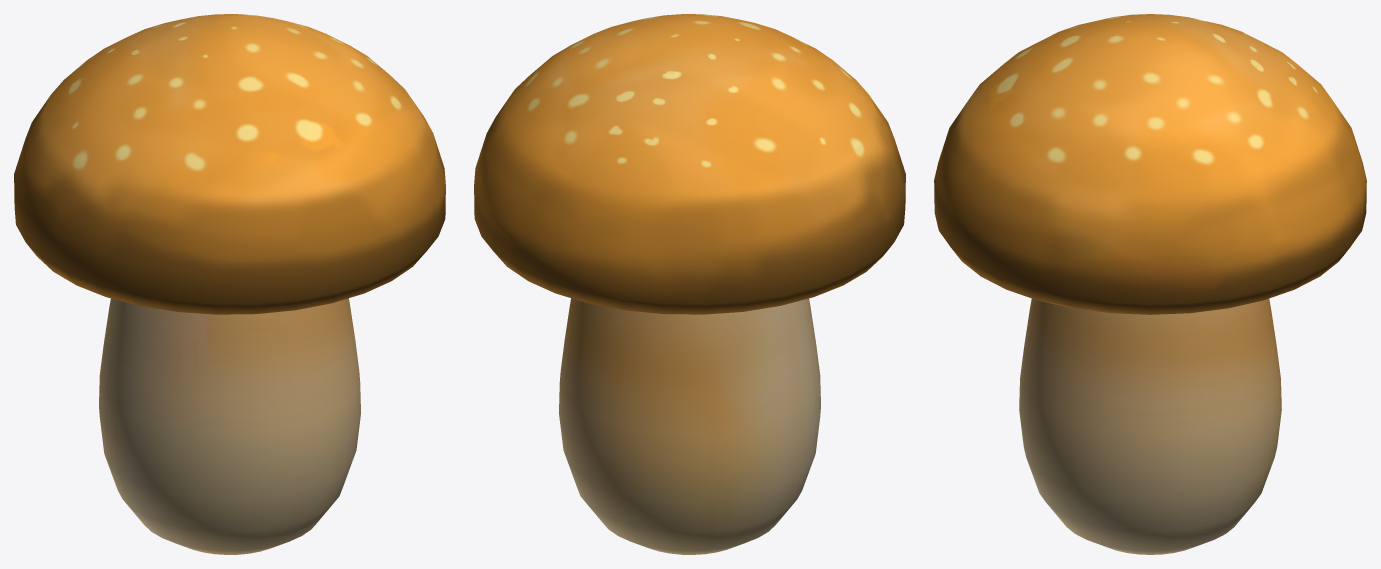
File: mushroom.fbx
3 views of the same model, side by side, from view 1: azimuth 30°, elevation 25°; view 2: azimuth 150°, elevation 25°; view 3: azimuth 270°, elevation 25° (orthographic).
Visible parts, largest first — view 1: Sphere.001, Sphere; view 2: Sphere.001, Sphere; view 3: Sphere.001, Sphere.
Boxes of the visible parts, x1,y1,x2,y2 form: Sphere.001: (14, 14, 445, 314); Sphere: (99, 298, 360, 554); Sphere.001: (474, 14, 905, 314); Sphere: (559, 298, 820, 554); Sphere.001: (934, 14, 1366, 314); Sphere: (1019, 298, 1281, 554).
Size of the model in its own units: 291 by 372 by 291.
Materials: 1 (1 with a texture image).
